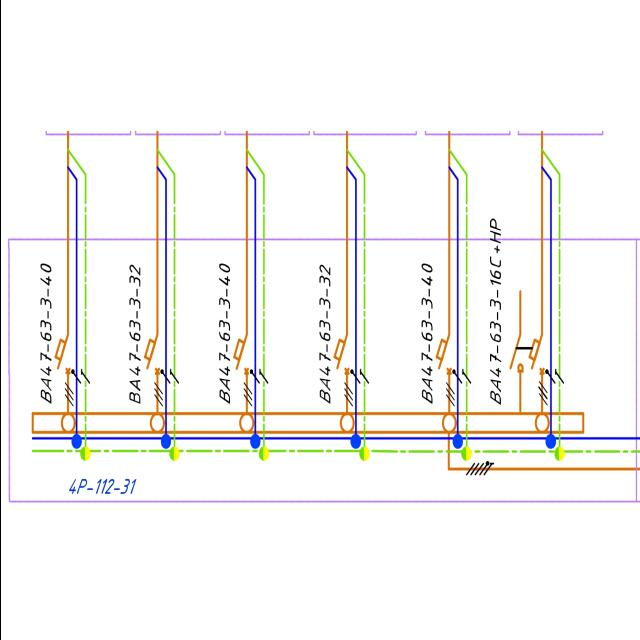-: (485, 216, 503, 406), (315, 259, 333, 409), (123, 259, 141, 409), (414, 258, 432, 408), (35, 258, 53, 408), (214, 254, 232, 404)
ITU: (508, 334, 526, 376)
QF: (434, 330, 454, 378), (52, 330, 72, 378), (142, 328, 162, 376), (332, 330, 352, 378), (231, 328, 250, 376), (527, 327, 546, 375)
